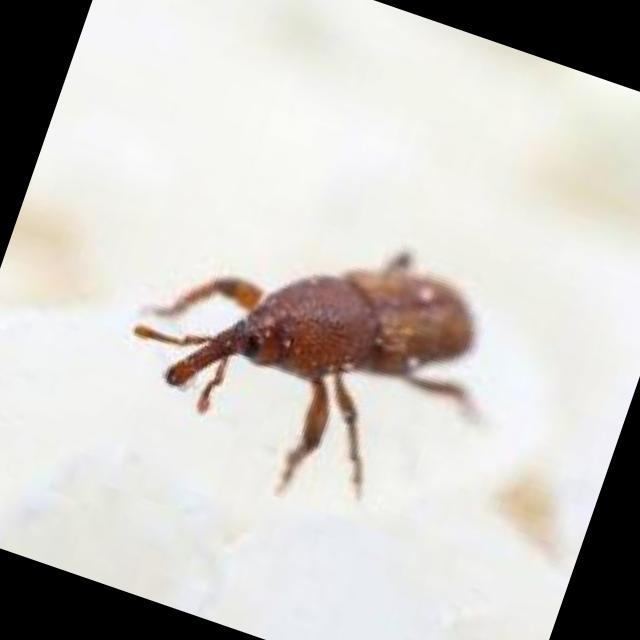rice-bug: (153, 201, 494, 496)
